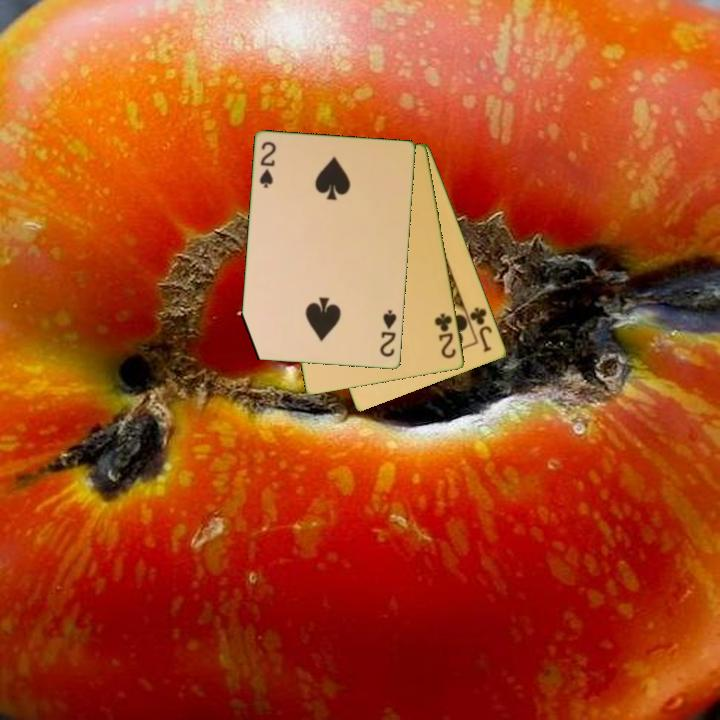2c: (431, 310, 459, 362)
2s: (377, 307, 400, 360), (256, 138, 279, 191)
Jc: (466, 304, 495, 355)
